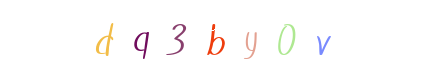0: (218, 0, 298, 80)
3: (168, 0, 248, 80)
B: (172, 0, 252, 80)
D: (78, 0, 158, 80)
Q: (119, 0, 199, 80)
V: (282, 0, 362, 80)
Y: (175, 0, 255, 80)
